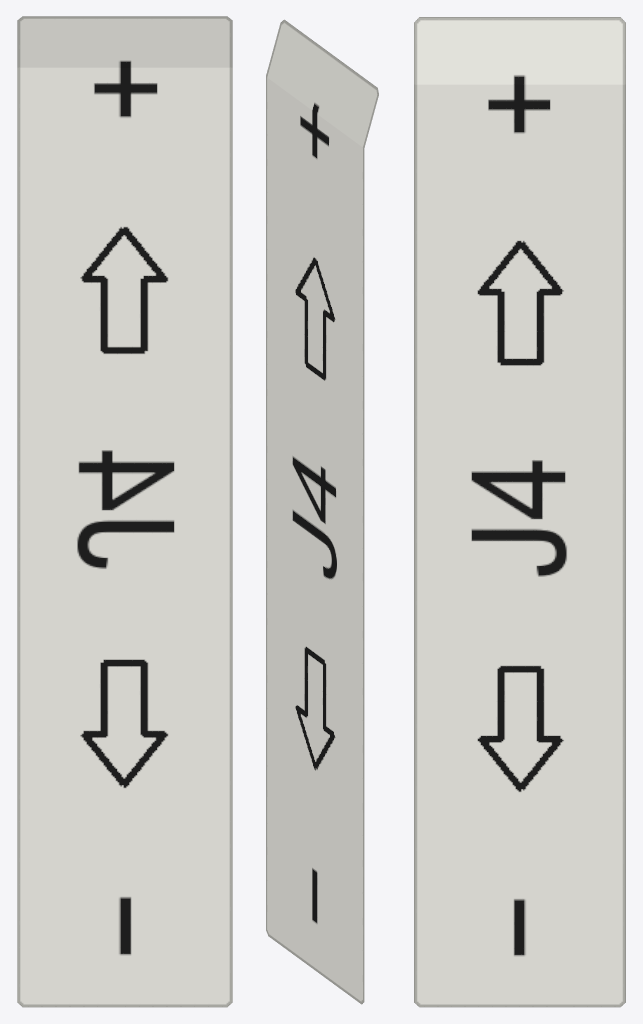
Rendered from J4_sticker.glb.
3 views of the same model, side by side, from view 1: azimuth 90°, elevation 25°; view 2: azimuth 210°, elevation 25°; view 3: azimuth 270°, elevation 25° (orthographic). The views are drawn at different scales.
Bounding box in the file's own units: 0.00106 × 0.055 × 0.011.
Materials: 1 (1 with a texture image).
